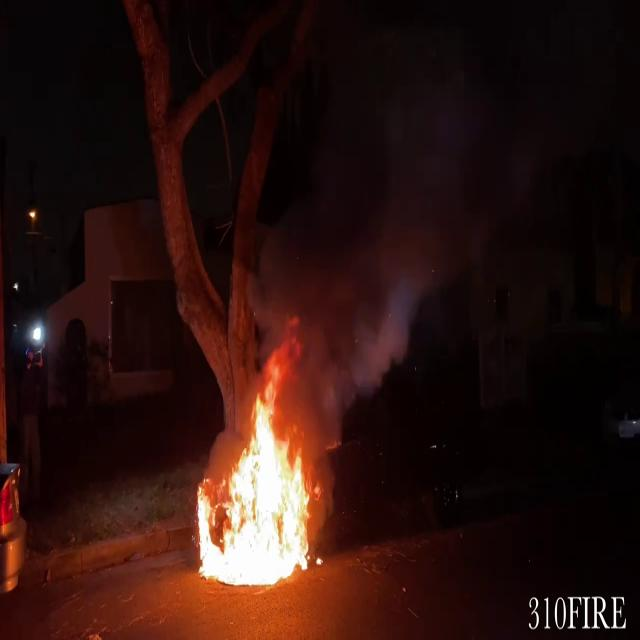Fire: (192, 320, 320, 594)
Smoke: (256, 135, 440, 398)
